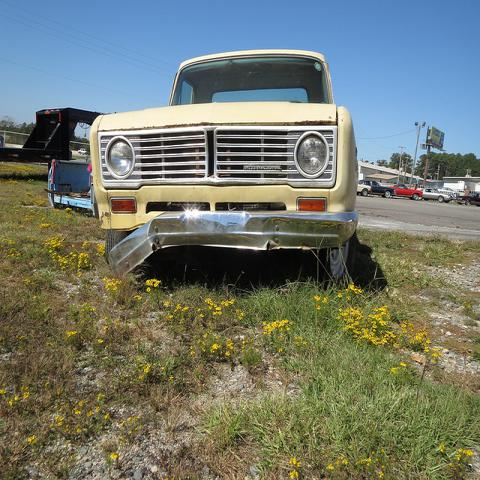car: (360, 180, 395, 198), (388, 184, 423, 200), (419, 187, 454, 203), (458, 190, 480, 206), (357, 182, 372, 196)
truck: (89, 46, 360, 287)
